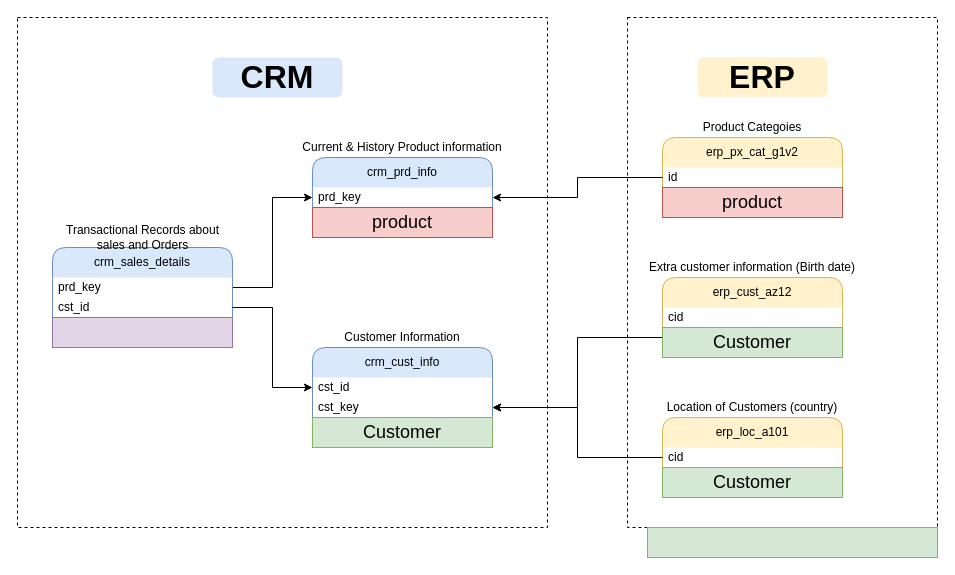
Some shapes in this 955 by 575 pixel diagram are drawn without their labels. Each missing label, with the centre of its shape:
"Muhammad Hamza Habib" belongs at (792,542).
"Sales" belongs at (142,332).
